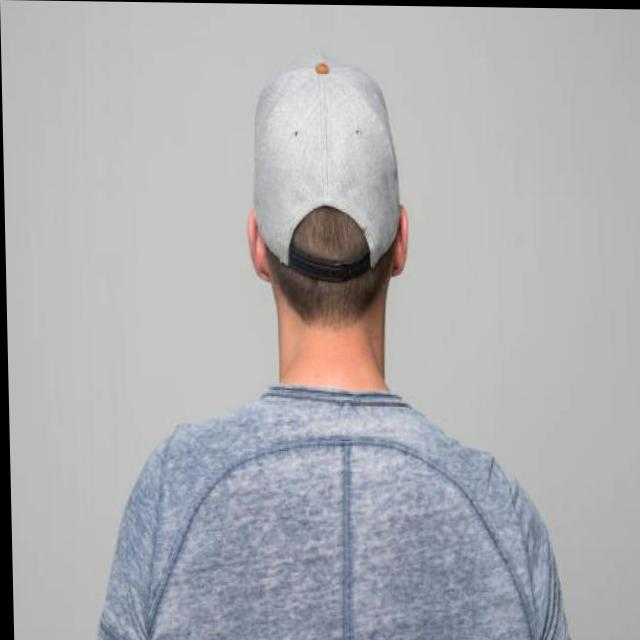no helmet: (232, 47, 411, 381)
